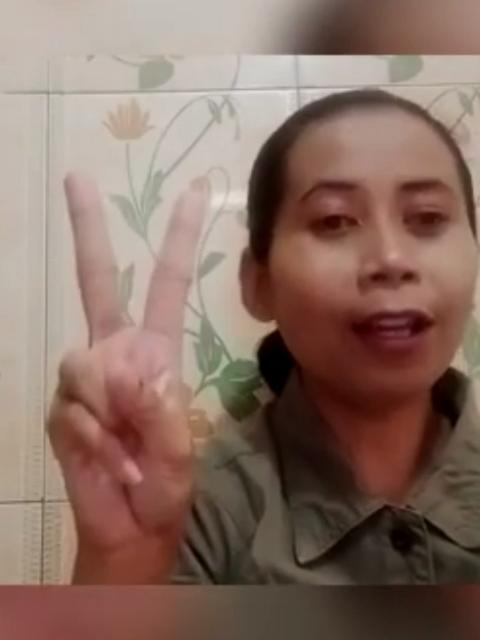V: (28, 171, 228, 549)
